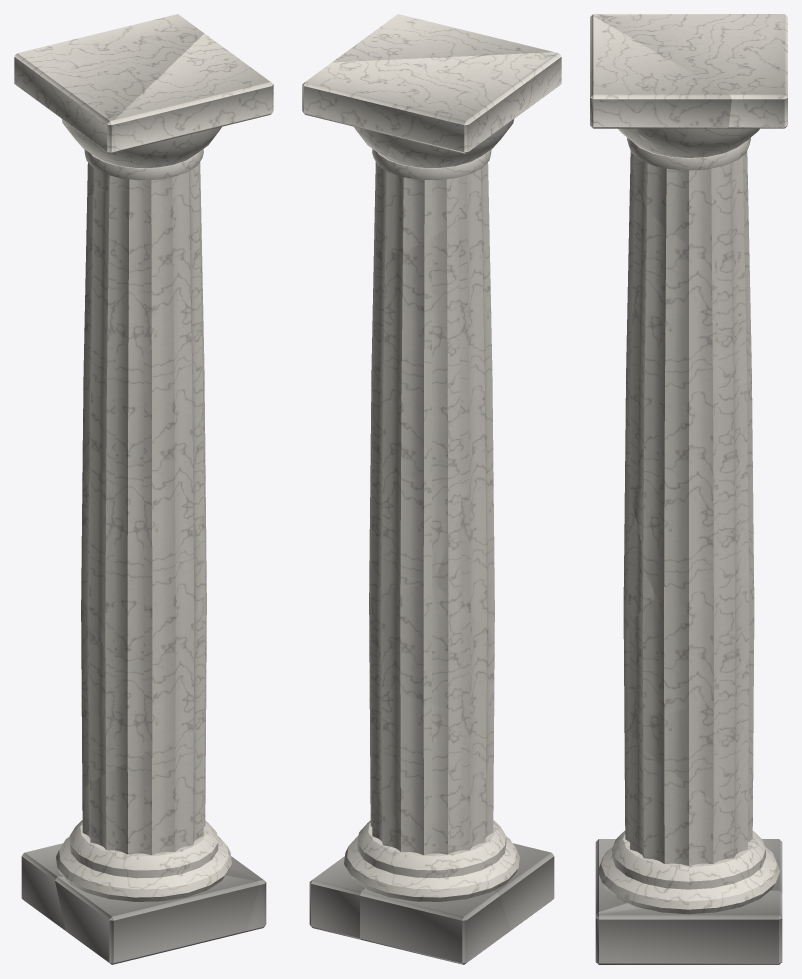
File: column_fractured.glb
The picture shows the model from 3 angles, left to right: view 1: azimuth 30°, elevation 25°; view 2: azimuth 150°, elevation 25°; view 3: azimuth 270°, elevation 25°; orthographic projection. The views are drawn at different scales.
Visible parts, largest first — view 1: chunk_009, chunk_013, chunk_018, chunk_006, chunk_011, chunk_001, chunk_019, chunk_008, chunk_012, chunk_005, chunk_007, chunk_016 (+6 smaller); view 2: chunk_018, chunk_007, chunk_008, chunk_013, chunk_012, chunk_011, chunk_010, chunk_004, chunk_002, chunk_014, chunk_009, chunk_019 (+7 smaller); view 3: chunk_010, chunk_008, chunk_011, chunk_018, chunk_003, chunk_019, chunk_006, chunk_007, chunk_013, chunk_012, chunk_014, chunk_005 (+7 smaller).
Part boxes in pixels (x1=…): chunk_009: x1=81, y1=469, x2=204, y2=665; chunk_013: x1=85, y1=190, x2=202, y2=335; chunk_018: x1=14, y1=14, x2=203, y2=153; chunk_006: x1=82, y1=730, x2=205, y2=855; chunk_011: x1=82, y1=359, x2=205, y2=493; chunk_001: x1=55, y1=875, x2=259, y2=964; chunk_019: x1=112, y1=33, x2=273, y2=151; chunk_008: x1=81, y1=574, x2=206, y2=732; chunk_012: x1=83, y1=299, x2=204, y2=398; chunk_005: x1=97, y1=820, x2=231, y2=901; chunk_007: x1=81, y1=681, x2=206, y2=788; chunk_016: x1=62, y1=119, x2=221, y2=167; chunk_018: x1=302, y1=52, x2=561, y2=153; chunk_007: x1=369, y1=668, x2=494, y2=828; chunk_008: x1=369, y1=576, x2=494, y2=712; chunk_013: x1=373, y1=175, x2=491, y2=325; chunk_012: x1=371, y1=293, x2=492, y2=413; chunk_011: x1=370, y1=367, x2=493, y2=487; chunk_010: x1=369, y1=452, x2=468, y2=588; chunk_004: x1=347, y1=828, x2=519, y2=901; chunk_002: x1=360, y1=888, x2=510, y2=964; chunk_014: x1=374, y1=162, x2=488, y2=254; chunk_009: x1=433, y1=454, x2=494, y2=635; chunk_019: x1=332, y1=14, x2=553, y2=62; chunk_010: x1=629, y1=452, x2=753, y2=608; chunk_008: x1=623, y1=568, x2=754, y2=716; chunk_011: x1=625, y1=359, x2=752, y2=489; chunk_018: x1=590, y1=14, x2=787, y2=128; chunk_003: x1=595, y1=890, x2=782, y2=964; chunk_019: x1=590, y1=16, x2=731, y2=128; chunk_006: x1=624, y1=724, x2=752, y2=865; chunk_007: x1=624, y1=676, x2=753, y2=814; chunk_013: x1=627, y1=168, x2=750, y2=319; chunk_012: x1=626, y1=290, x2=751, y2=390; chunk_014: x1=630, y1=151, x2=748, y2=253; chunk_005: x1=598, y1=831, x2=751, y2=914.
Size of the model in its own units: 1.8 by 8.76 by 1.8.
3 materials, 1 textured.
